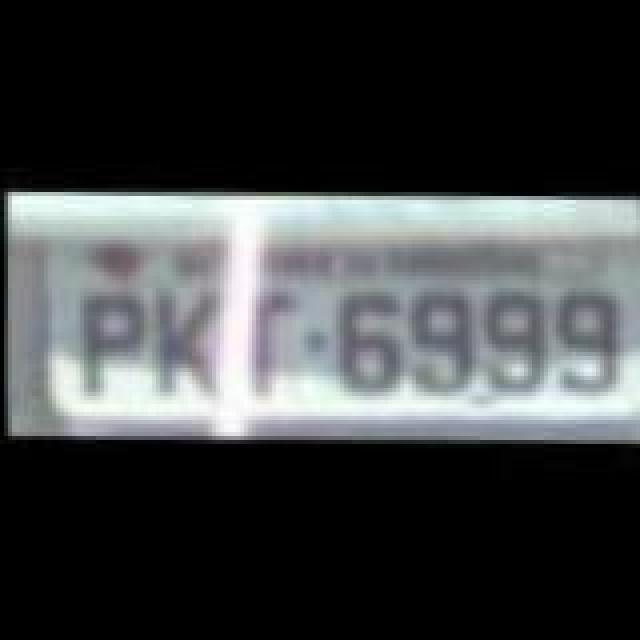6: (328, 282, 400, 402)
9: (550, 288, 618, 400), (404, 284, 468, 396), (476, 286, 540, 398)
K: (148, 284, 220, 404)
P: (74, 284, 142, 404)
T: (234, 280, 302, 404)
